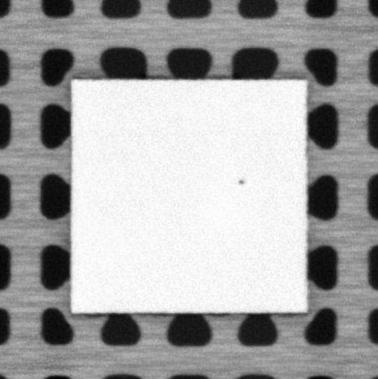DIE_INK: (236, 176, 245, 186)
